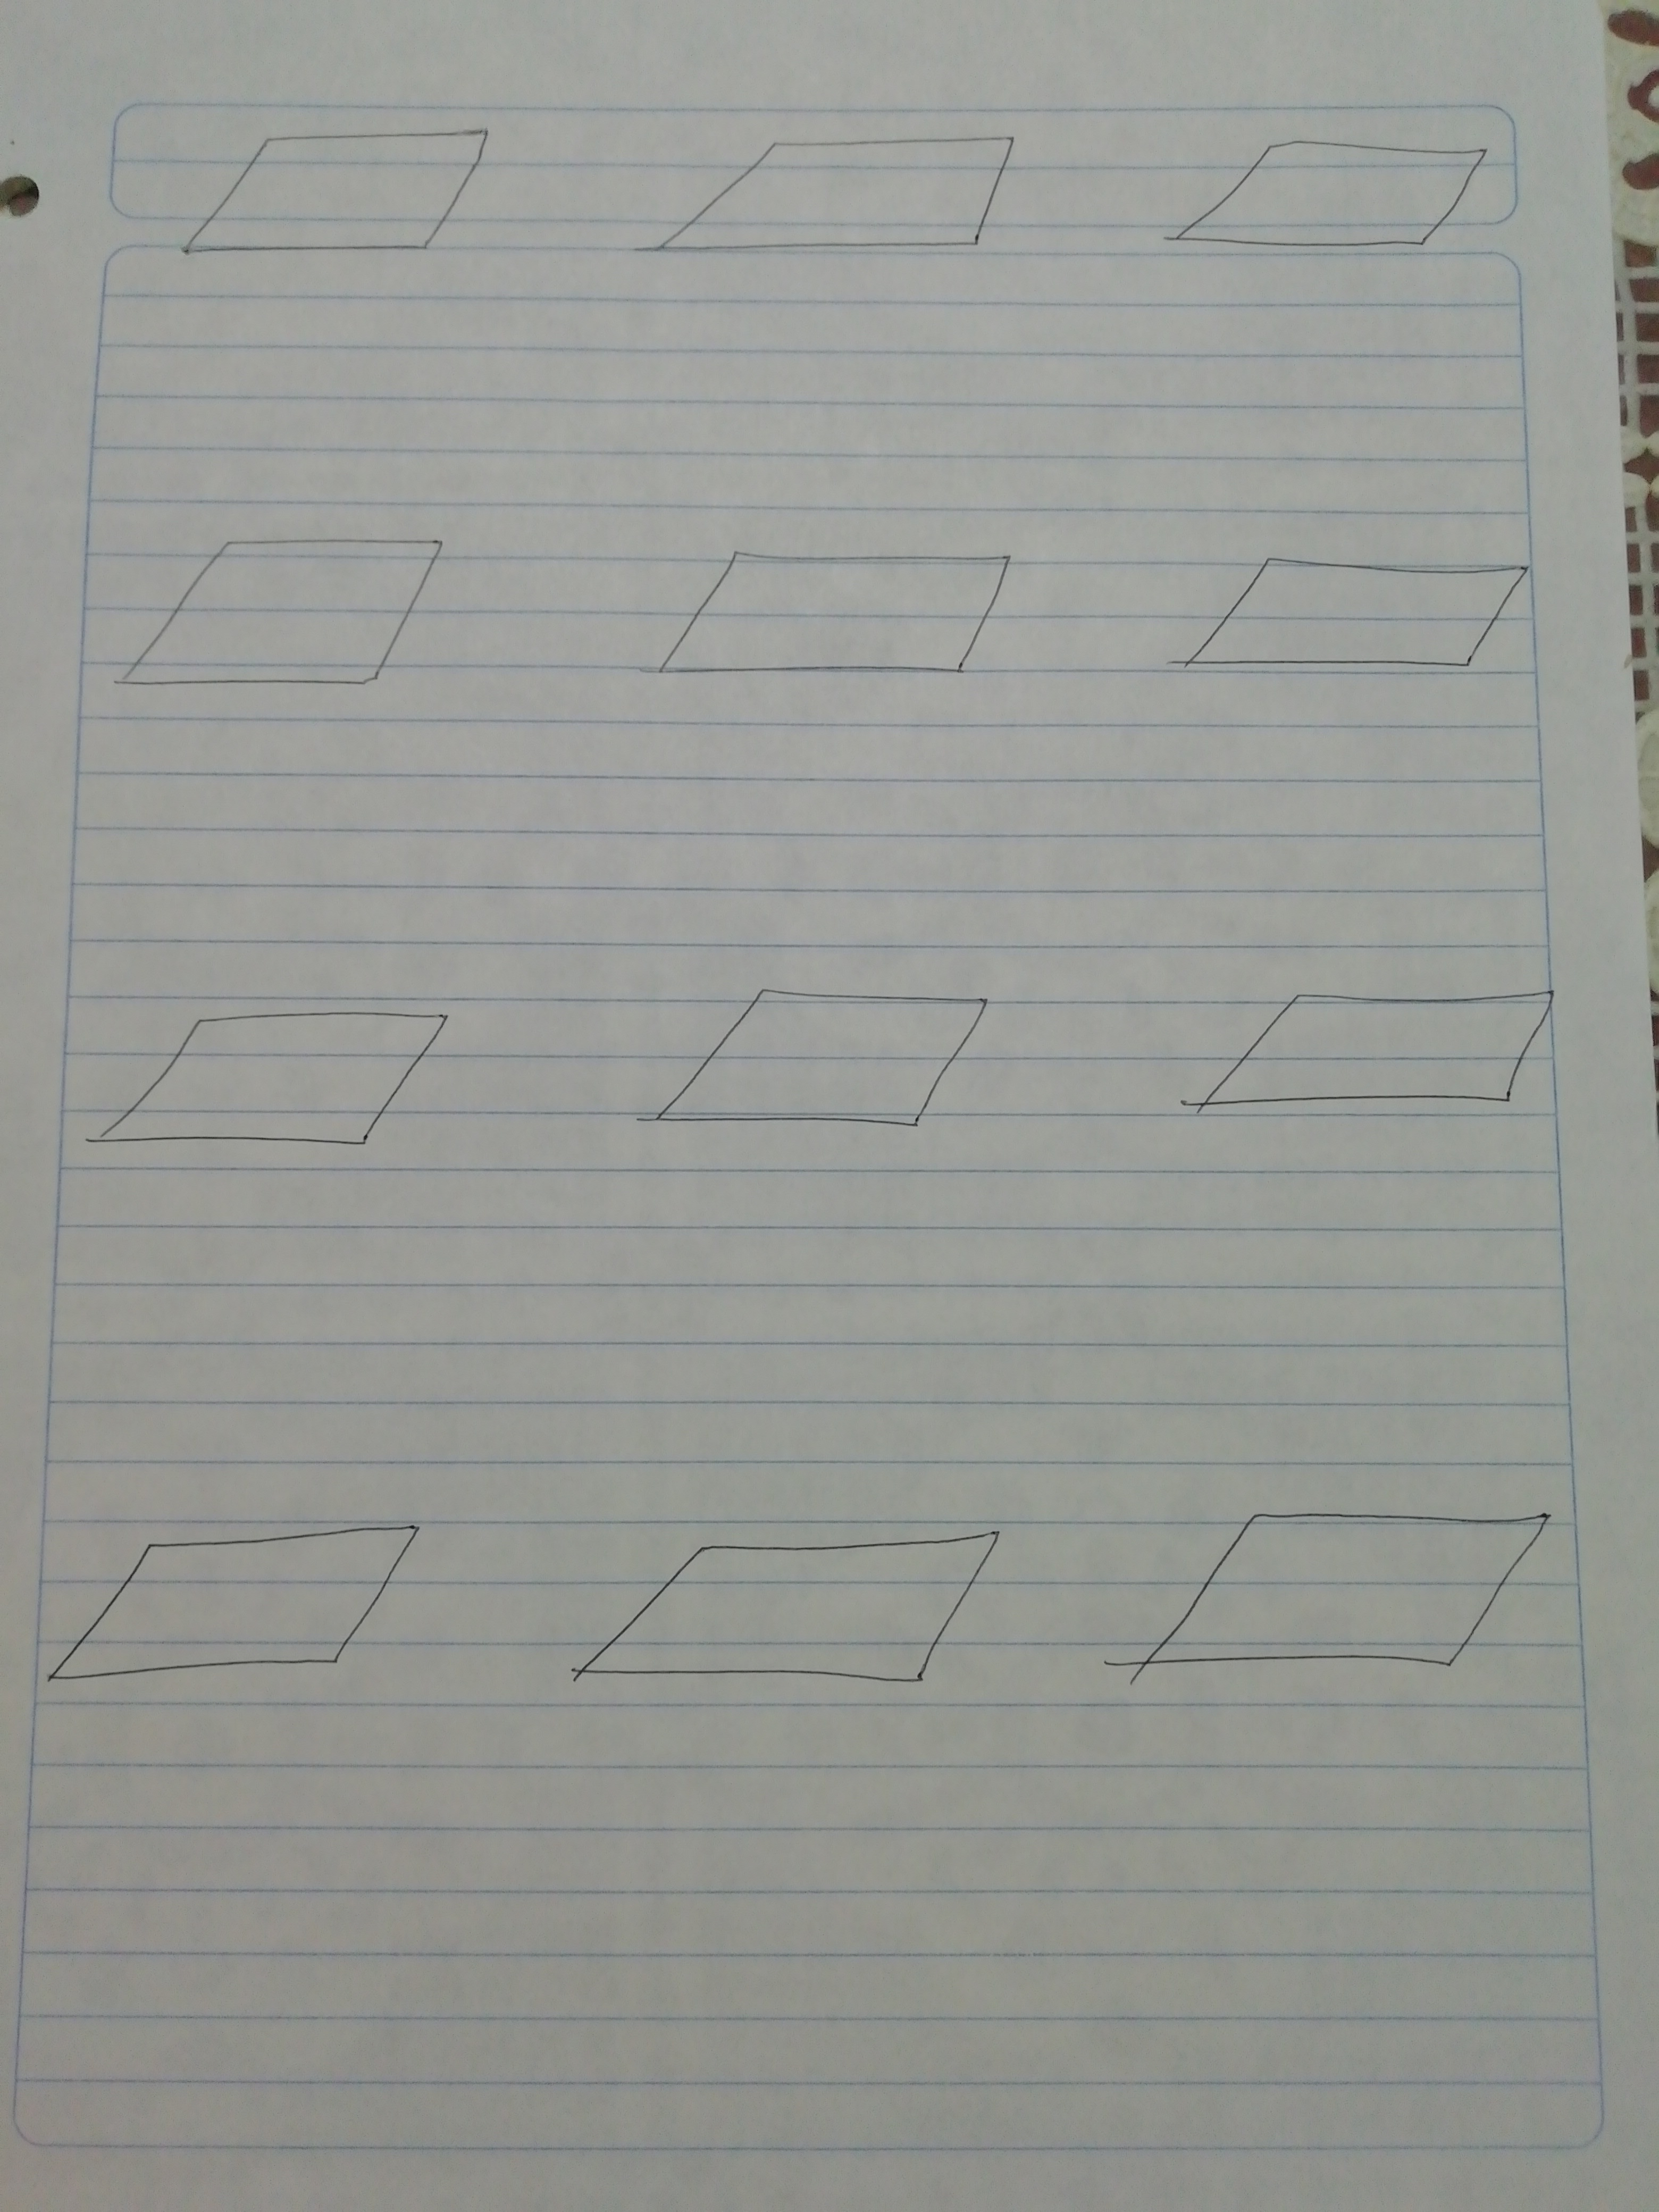scan: (1082, 1463, 1596, 1750), (519, 1496, 1040, 1754), (619, 939, 1026, 1223), (44, 963, 484, 1205), (608, 92, 1044, 326), (12, 1493, 455, 1719), (71, 500, 491, 737), (1150, 496, 1540, 751), (1140, 942, 1589, 1162), (136, 85, 544, 305), (615, 510, 1033, 723), (1140, 110, 1516, 312)
